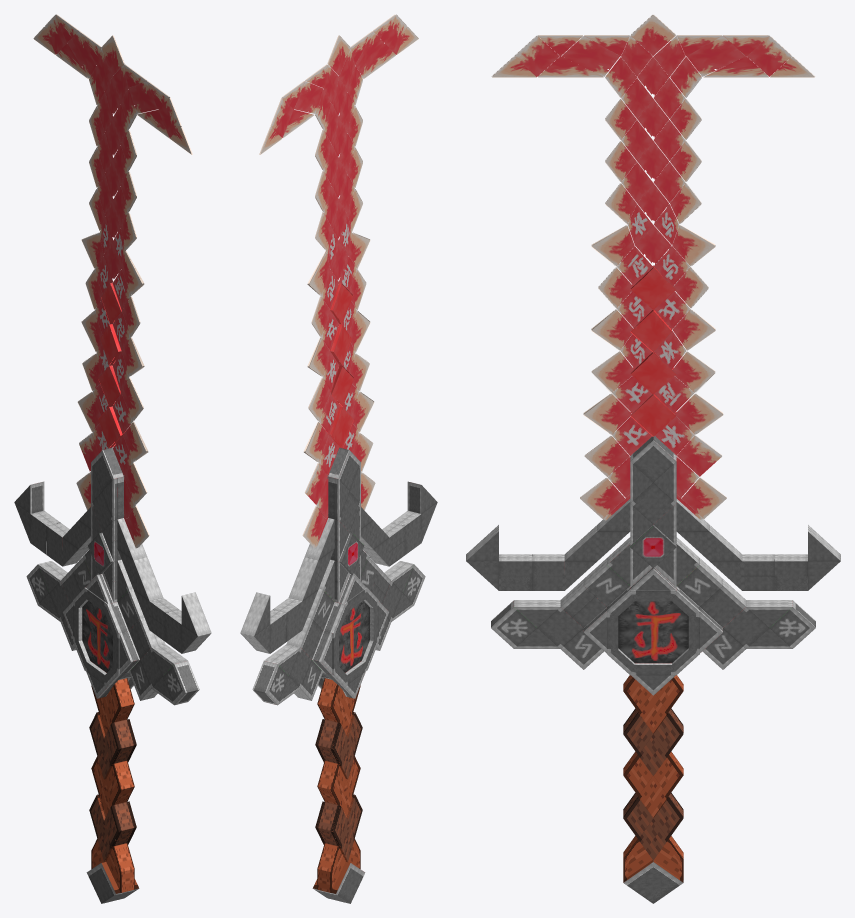
File: open_sword_test.obj
3 views of the same model, side by side, from view 1: azimuth 30°, elevation 25°; view 2: azimuth 150°, elevation 25°; view 3: azimuth 270°, elevation 25° (orthographic). The views are drawn at different scales.
Parts seen in each view (by area): view 1: open_sword.005_Cube.000; view 2: open_sword.005_Cube.000; view 3: open_sword.005_Cube.000.
Boxes of the visible parts, bbox=[...] form: open_sword.005_Cube.000: bbox=[14, 14, 211, 903]; open_sword.005_Cube.000: bbox=[240, 14, 437, 903]; open_sword.005_Cube.000: bbox=[466, 15, 840, 903].
Size of the model in its own units: 0.0464 by 1.11 by 0.4279.
Materials: 1 (1 with a texture image).
